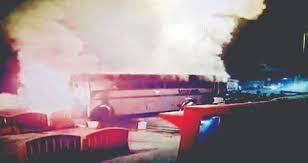fire: (23, 69, 85, 109)
